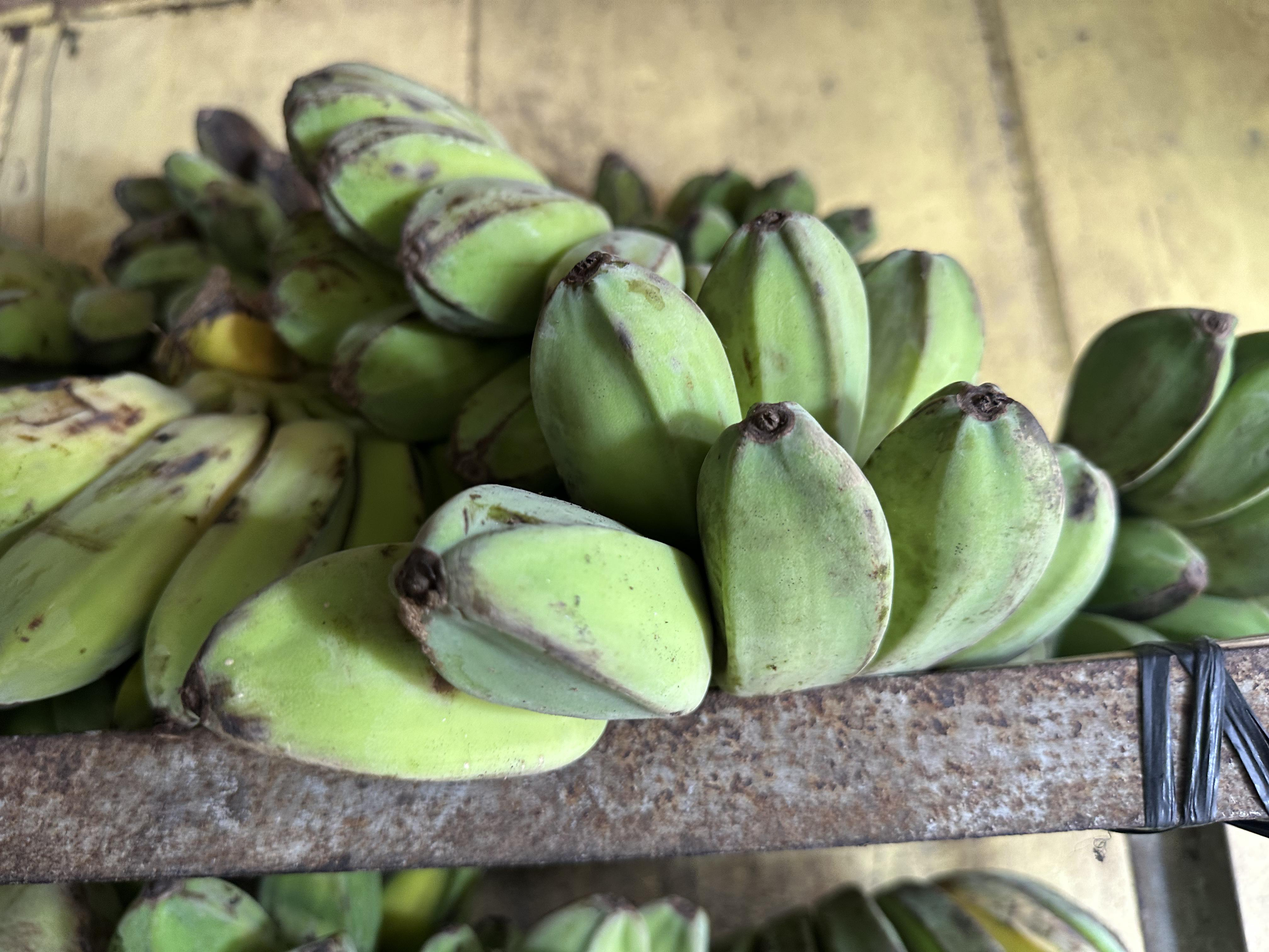underripe: (184, 210, 1117, 779), (269, 63, 684, 489), (0, 373, 424, 721), (1056, 308, 1269, 656), (69, 108, 316, 366), (713, 870, 1126, 952)
